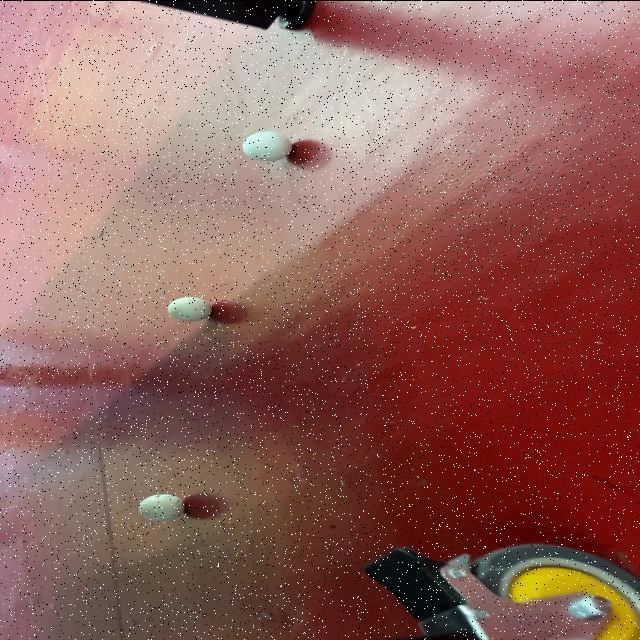ping-pong-ball: (240, 130, 294, 162), (137, 492, 187, 522), (166, 294, 212, 322)
